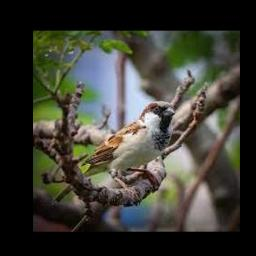Sparrow: (82, 101, 175, 196)
